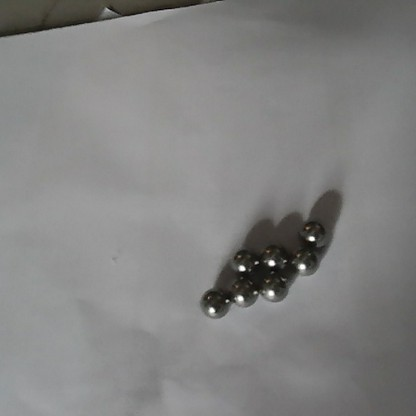ironball: (196, 282, 233, 320), (229, 275, 262, 308), (289, 243, 319, 277), (299, 217, 330, 249), (260, 240, 292, 270), (229, 243, 256, 277), (259, 271, 287, 303)
